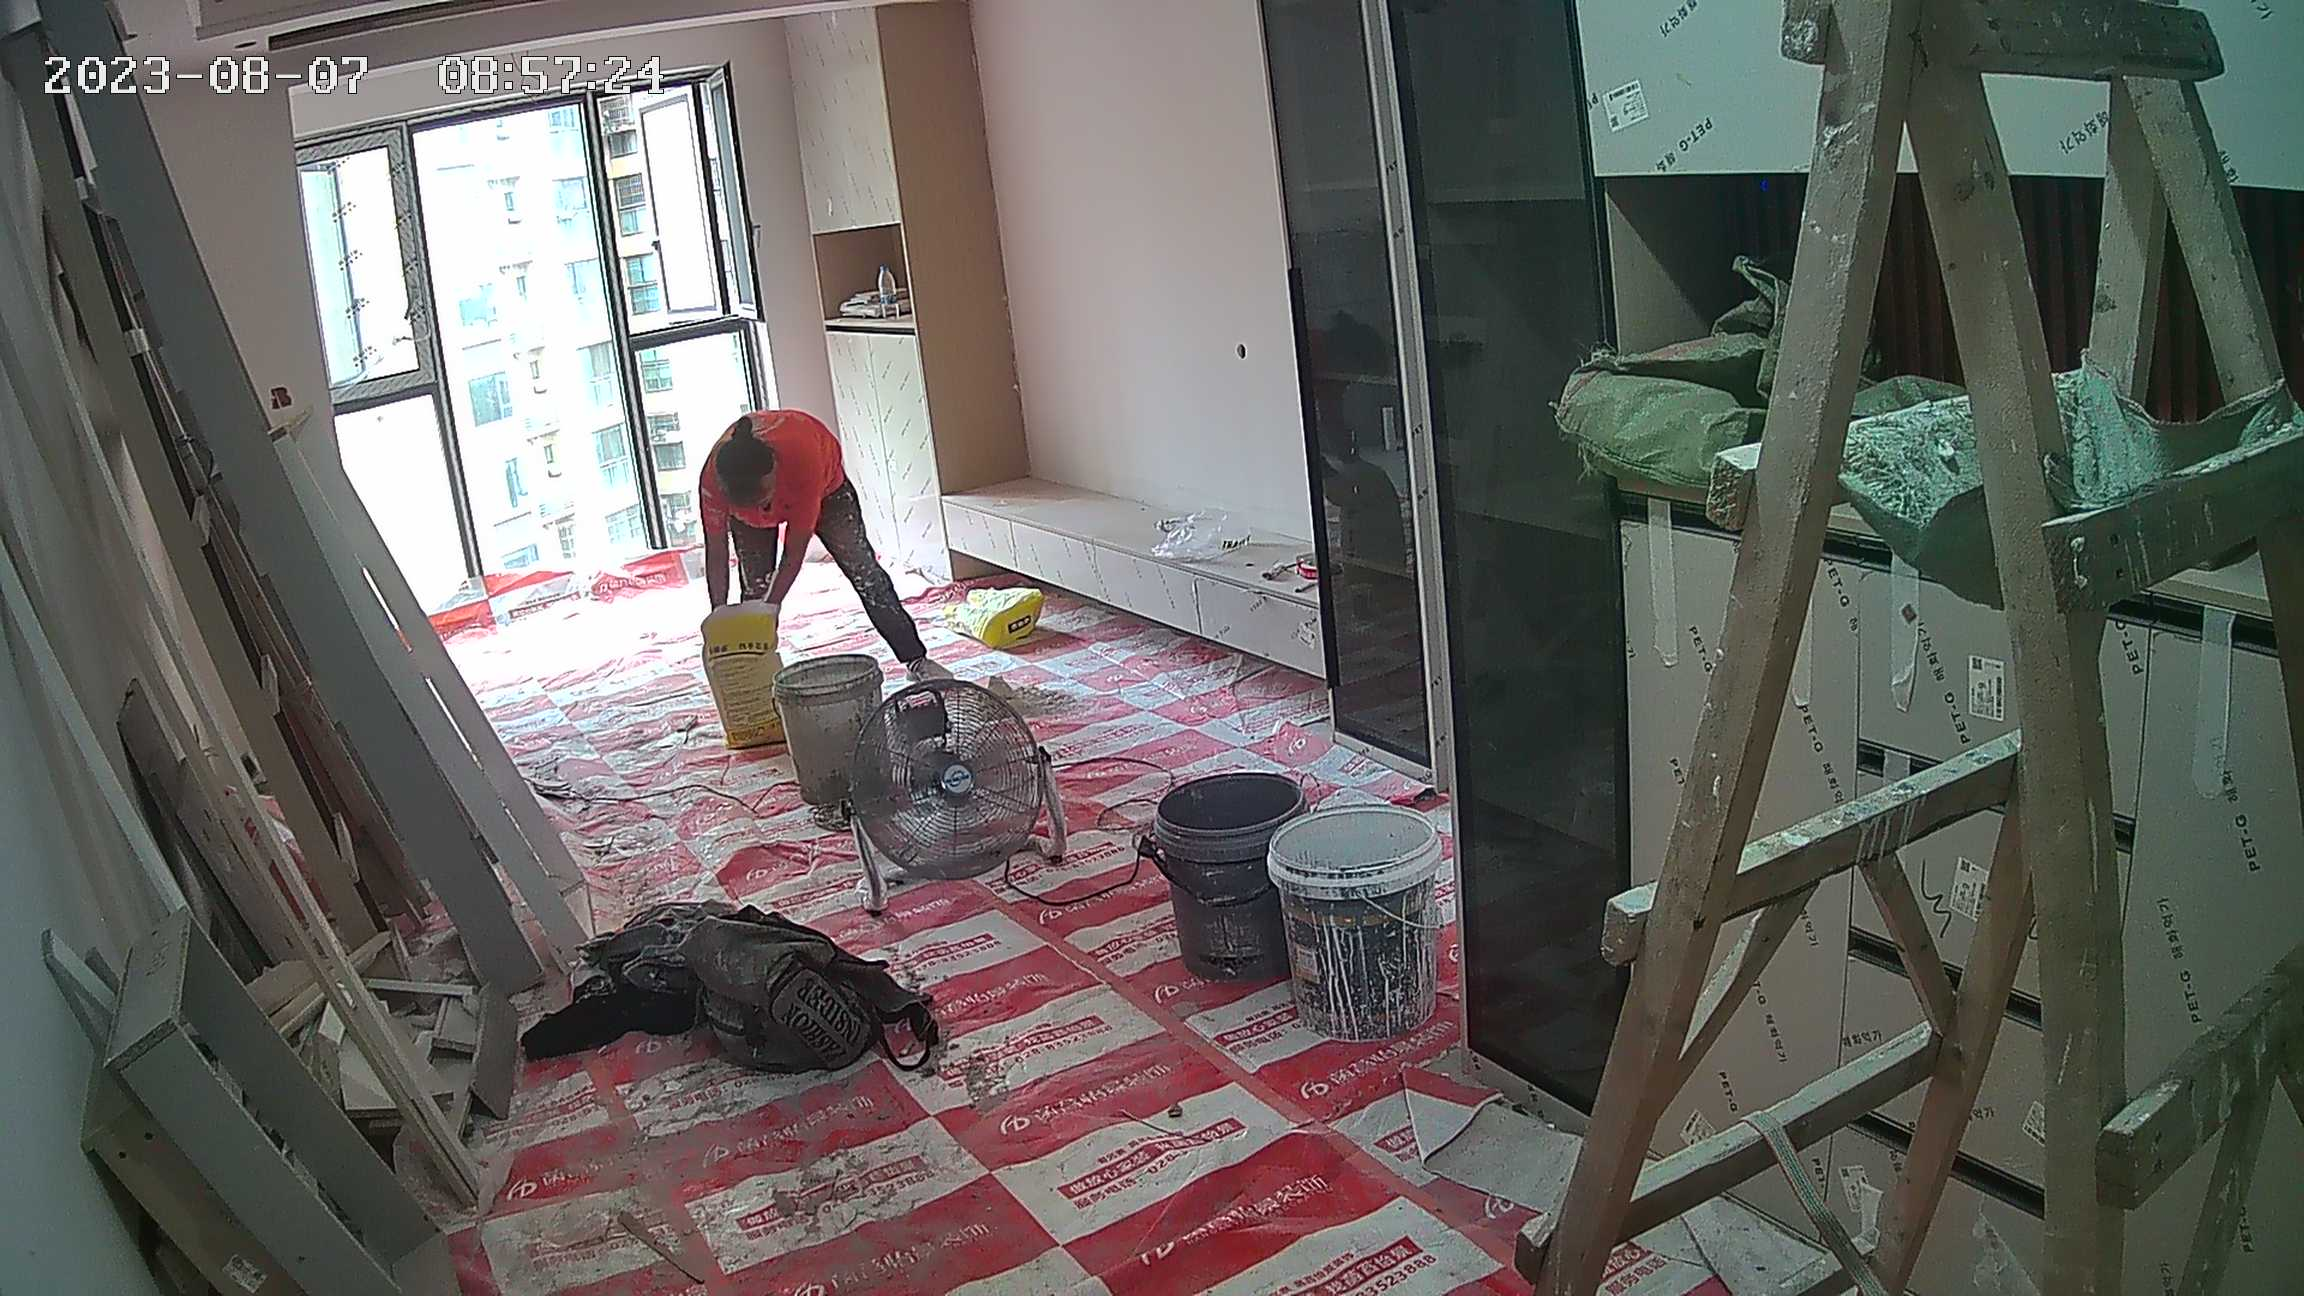people: (676, 418, 951, 733)
window: (297, 69, 770, 555)
